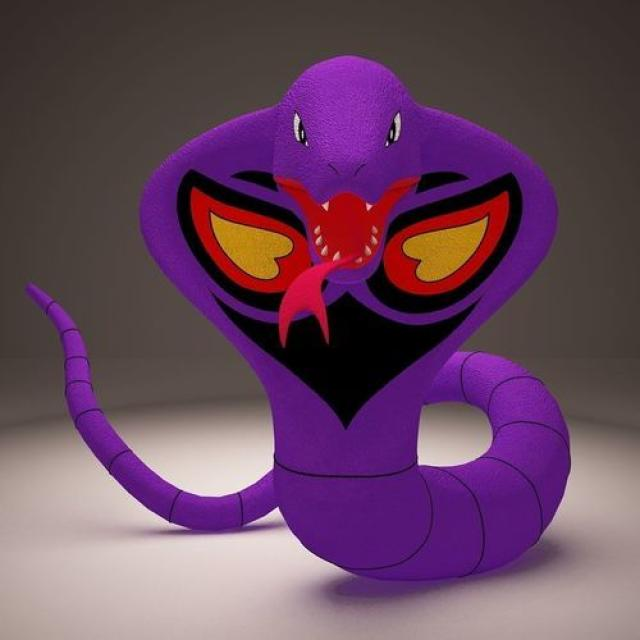Arbok: (150, 59, 566, 568)
